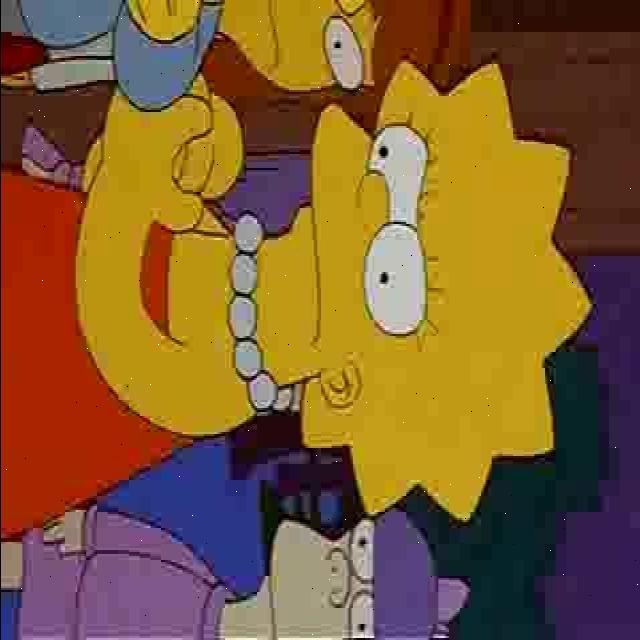Lisa Simpson: (232, 56, 596, 528)
